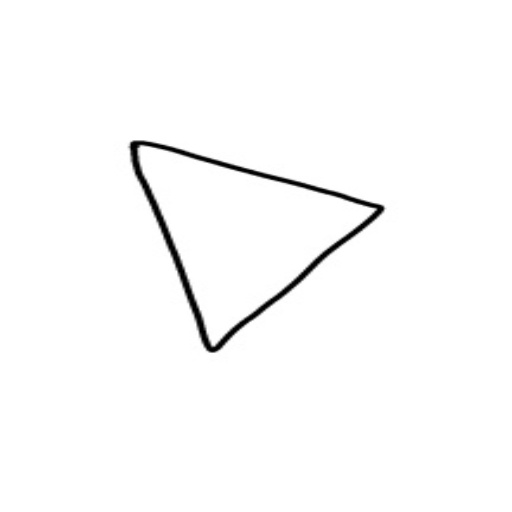triangle: (116, 115, 397, 375)
